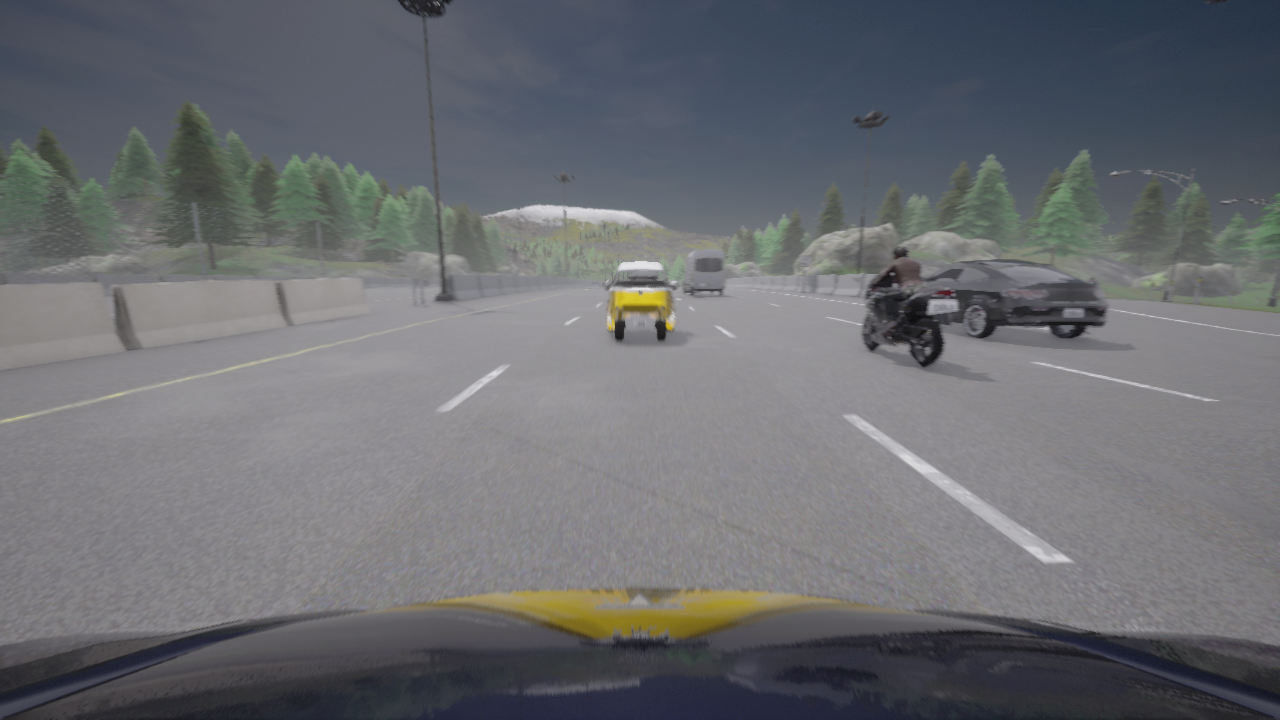cyclist: (0, 588, 1279, 719), (922, 260, 1108, 338), (853, 274, 957, 368), (603, 262, 677, 341), (681, 250, 725, 296), (1044, 265, 1057, 269)
